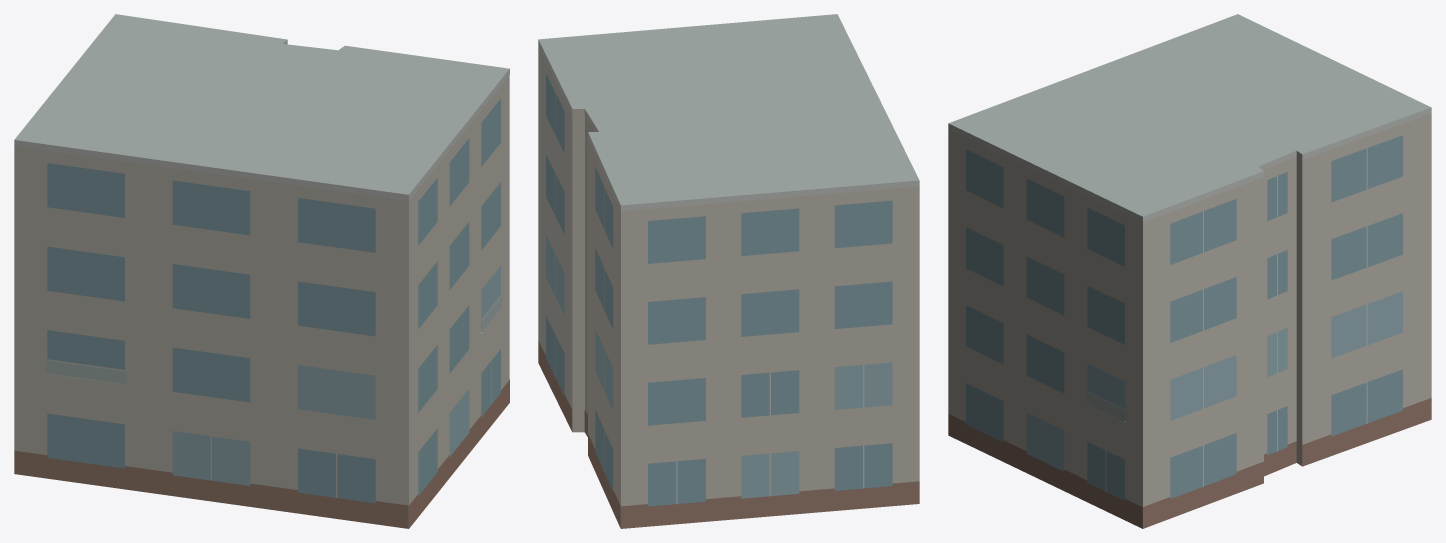
File: survey-upis-32725825.glb
3 views of the same model, side by side, from view 1: azimuth 30°, elevation 25°; view 2: azimuth 150°, elevation 25°; view 3: azimuth 270°, elevation 25° (orthographic). The views are drawn at different scales.
Parts seen in each view (by area): view 1: survey-upis-32725825.tmp; view 2: survey-upis-32725825.tmp; view 3: survey-upis-32725825.tmp.
Boxes of the visible parts, box(x1,y1,x2,y2) form: survey-upis-32725825.tmp: box(14, 14, 509, 528); survey-upis-32725825.tmp: box(538, 14, 919, 528); survey-upis-32725825.tmp: box(948, 14, 1431, 528).
Size of the model in its own units: 18.37 by 13.18 by 18.5.
